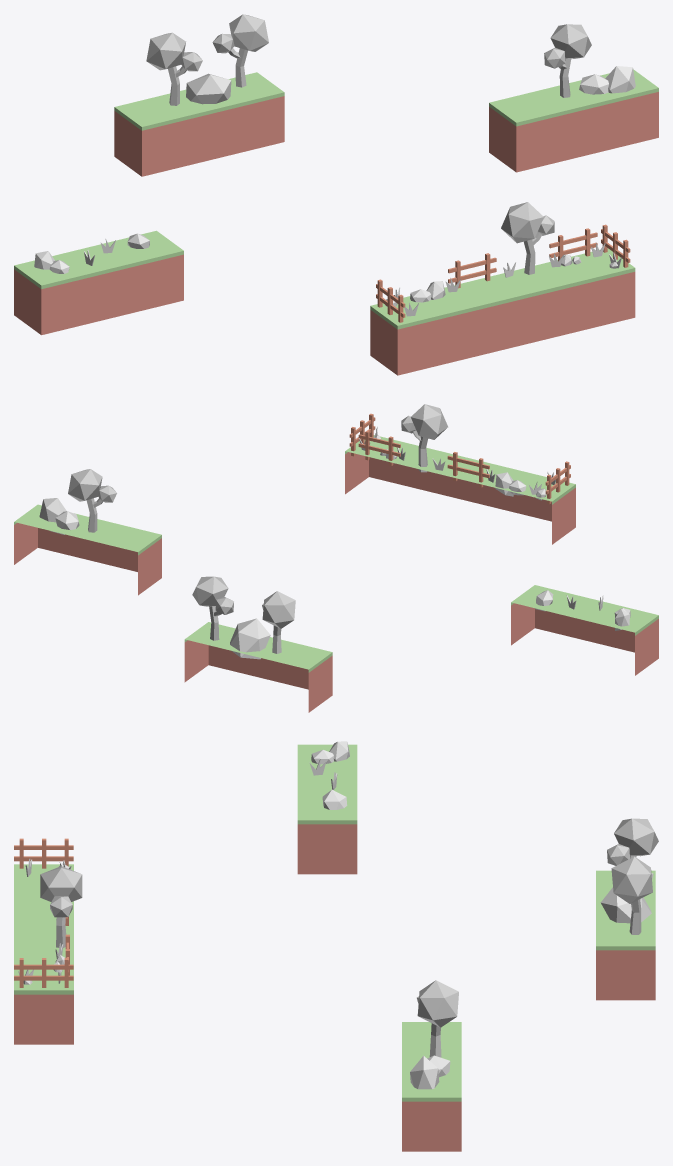
File: World1.dae
3 views of the same model, one above another, from view 1: azimuth 30°, elevation 25°; view 2: azimuth 150°, elevation 25°; view 3: azimuth 270°, elevation 25° (orthographic). The views are drawn at different scales.
Parts seen in each view (by area): view 1: Island, Terrain-col, Trees, Rocks, Fences, Grass; view 2: Island, Terrain-col, Trees, Rocks, Fences, Grass; view 3: Island, Terrain-col, Trees, Rocks, Fences.
Part boxes in pixels (box(x1,y1,x2,y2)): Island: box(14, 69, 658, 335); Terrain-col: box(370, 248, 635, 375); Trees: box(146, 14, 591, 274); Rocks: box(34, 66, 635, 306); Fences: box(376, 224, 630, 322); Grass: box(84, 239, 621, 316); Island: box(14, 504, 658, 712); Terrain-col: box(345, 435, 575, 544); Trees: box(68, 404, 447, 653); Rocks: box(39, 435, 630, 659); Fences: box(349, 413, 570, 504); Grass: box(359, 426, 603, 610); Island: box(297, 744, 655, 1151); Terrain-col: box(14, 864, 73, 1044); Trees: box(40, 818, 658, 1057); Rocks: box(23, 741, 651, 1089); Fences: box(14, 838, 73, 987).
Size of what is drawn, in the model's own units: 56 by 43.23 by 9.7.
